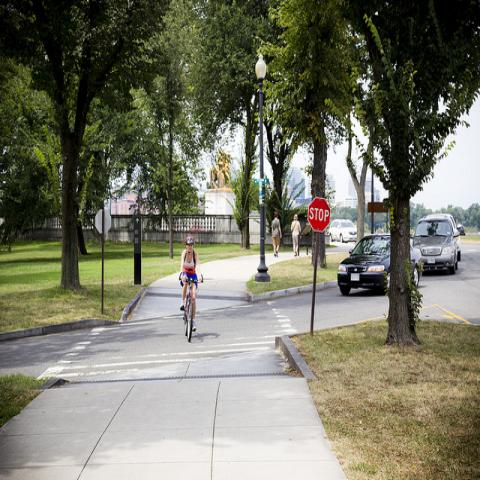car: (336, 235, 422, 298), (412, 212, 461, 272), (329, 219, 358, 242), (457, 224, 465, 234)
